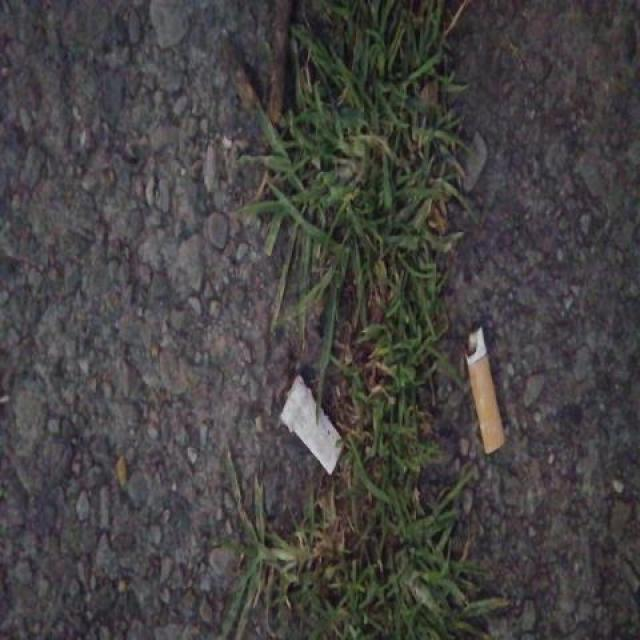non-organic waste: (275, 368, 349, 481), (460, 323, 508, 457)
